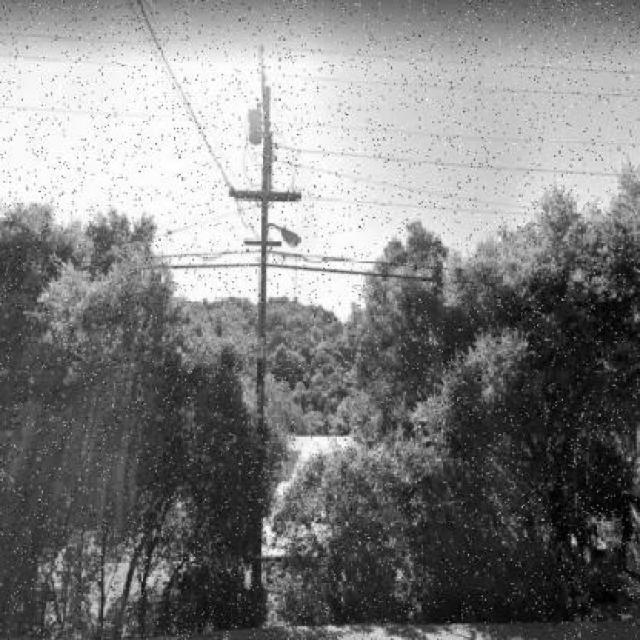pole: (218, 40, 302, 608)
